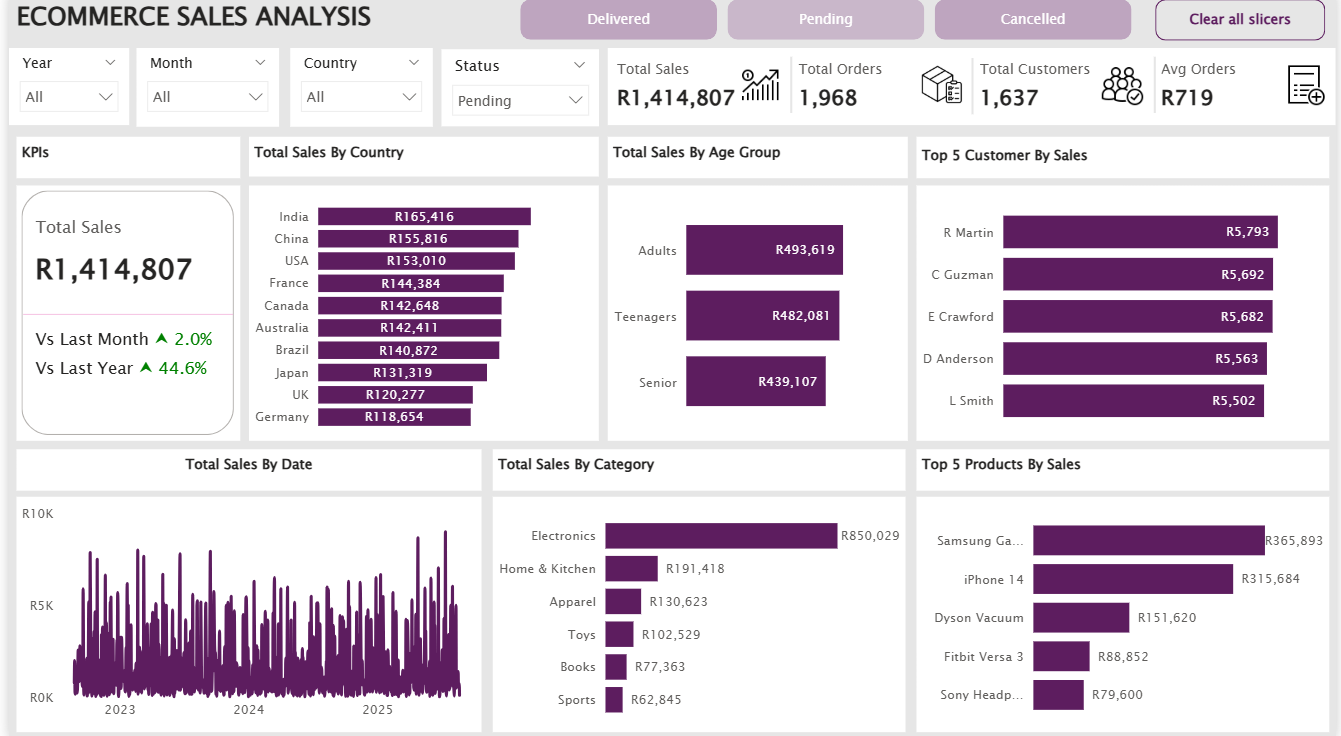

This screenshot's page, from the dashboard's own definition file:
{"tool":"powerbi","page":{"name":"Overview","canvas":[1280,720],"ordinal":0},"visuals":[{"type":"cardVisual","fields":{"Data":["My Measures.Total Sales","My Measures.Total Orders","My Measures.Total Customers","My Measures.Avg Order Values"]},"box":[577.9,53.1,702.1,74.8],"z":0,"group":"g1"},{"type":"barChart","fields":{"Category":["eCommerceData.country"],"Y":["My Measures.Total Sales"]},"box":[231.6,185.8,337.8,246.1],"z":0},{"type":"group","id":"g1","title":"Group 1","box":[577.9,53.1,702.1,74.8],"z":1000},{"type":"barChart","fields":{"Y":["My Measures.Total Sales"],"Category":["eCommerceData.category"]},"box":[466.9,486.2,398.1,226.8],"z":2000},{"type":"barChart","fields":{"Y":["My Measures.Total Sales"],"Category":["eCommerceData.product_name"]},"box":[875.9,486.2,398.1,226.8],"z":3000},{"type":"shape","box":[702.3,60.9,105.7,54.3],"z":3500,"group":"g1"},{"type":"shape","box":[1051.9,61.5,107.7,54.3],"z":4000,"group":"g1"},{"type":"barChart","fields":{"Y":["My Measures.Total Sales"],"Category":["eCommerceData.Full Name"]},"box":[875.9,185.8,398.1,246.1],"z":4000},{"type":"shape","box":[877.1,62.2,105.7,54.3],"z":4500,"group":"g1"},{"type":"lineChart","fields":{"Y":["My Measures.Total Sales"],"Category":["DateTable.Date"]},"box":[7.2,486.2,448.8,226.8],"z":5000},{"type":"slicer","fields":{"Values":["eCommerceData.country"]},"box":[271.4,53.1,137.5,76],"z":6000},{"type":"slicer","fields":{"Values":["DateTable.Year"]},"box":[0,53.1,115.8,74.8],"z":7000},{"type":"slicer","fields":{"Values":["DateTable.Month Name"]},"box":[123.1,53.1,137.5,76],"z":8000},{"type":"cardVisual","fields":{"Data":["My Measures.Total Sales"]},"box":[7.2,185.8,216,246.1],"z":9000},{"type":"textbox","box":[7.2,138.7,216,39.8],"z":10000},{"type":"textbox","box":[231.6,138.7,337.8,38.6],"z":11000},{"type":"textbox","box":[466.9,440.4,398.1,39.8],"z":12000},{"type":"textbox","box":[7.2,440.4,448.8,39.8],"z":13000},{"type":"textbox","box":[875.9,440.4,398.1,39.8],"z":14000},{"type":"textbox","box":[875.9,138.7,398.1,39.8],"z":15000},{"type":"clusteredBarChart","fields":{"Category":["eCommerceData.age_group"],"Y":["My Measures.Total Sales"]},"box":[577.9,185.8,289.5,246.1],"z":16000},{"type":"textbox","box":[577.9,138.7,289.5,39.8],"z":17000},{"type":"textbox","box":[7.2,0,435.5,54.3],"z":18000},{"type":"slicer","fields":{"Values":["eCommerceData.Group Status"]},"box":[417.4,54.3,152,74.8],"z":19000},{"type":"actionButton","box":[1106.3,6,164.1,39.8],"z":20000},{"type":"bookmarkNavigator","box":[493.4,6,591.2,39.8],"z":21000}]}

Visuals, with their boxes in screenshot pixels (x1, y1, x2, y2), scaled from the page's 1280x720 canvas onto the 1341x736 screenshot:
cardVisual - My Measures.Total Sales x My Measures.Total Orders: <box>605,54,1340,131</box>
barChart - eCommerceData.country x My Measures.Total Sales: <box>243,190,597,441</box>
"Group 1" group: <box>605,54,1340,131</box>
barChart - My Measures.Total Sales x eCommerceData.category: <box>489,497,906,729</box>
barChart - My Measures.Total Sales x eCommerceData.product_name: <box>918,497,1335,729</box>
shape: <box>736,62,847,118</box>
shape: <box>1102,63,1215,118</box>
barChart - My Measures.Total Sales x eCommerceData.Full Name: <box>918,190,1335,441</box>
shape: <box>919,64,1030,119</box>
lineChart - My Measures.Total Sales x DateTable.Date: <box>8,497,478,729</box>
slicer - eCommerceData.country: <box>284,54,428,132</box>
slicer - DateTable.Year: <box>0,54,121,131</box>
slicer - DateTable.Month Name: <box>129,54,273,132</box>
cardVisual - My Measures.Total Sales: <box>8,190,234,441</box>
textbox: <box>8,142,234,182</box>
textbox: <box>243,142,597,181</box>
textbox: <box>489,450,906,491</box>
textbox: <box>8,450,478,491</box>
textbox: <box>918,450,1335,491</box>
textbox: <box>918,142,1335,182</box>
clusteredBarChart - eCommerceData.age_group x My Measures.Total Sales: <box>605,190,909,441</box>
textbox: <box>605,142,909,182</box>
textbox: <box>8,0,464,56</box>
slicer - eCommerceData.Group Status: <box>437,56,597,132</box>
actionButton: <box>1159,6,1331,47</box>
bookmarkNavigator: <box>517,6,1136,47</box>
